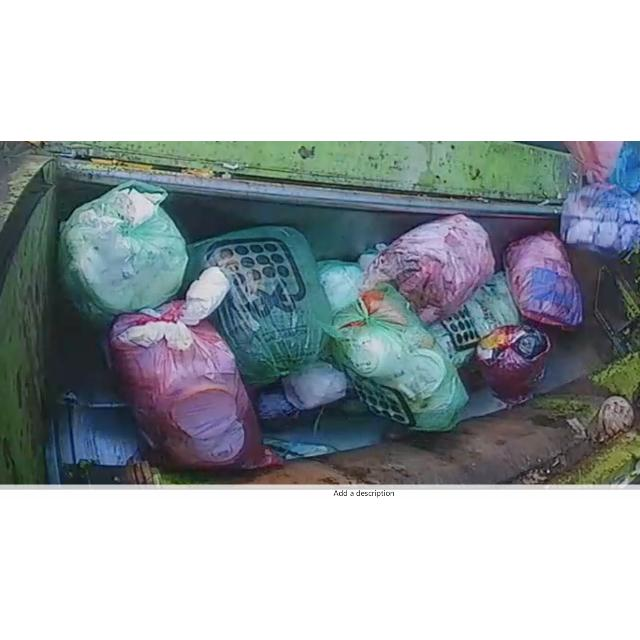general_trashbag: (185, 225, 332, 385), (329, 282, 468, 431), (59, 180, 188, 320), (429, 271, 520, 366), (318, 259, 364, 312)
other_trashbag: (109, 265, 279, 469), (363, 214, 495, 324), (504, 230, 582, 329), (476, 325, 551, 404), (560, 182, 640, 250)
